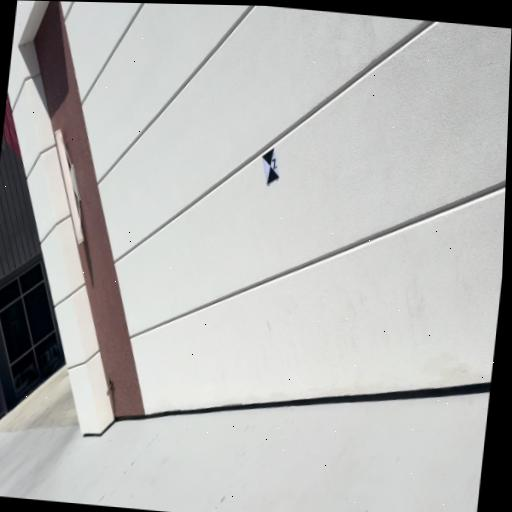target7: (262, 147, 280, 186)
